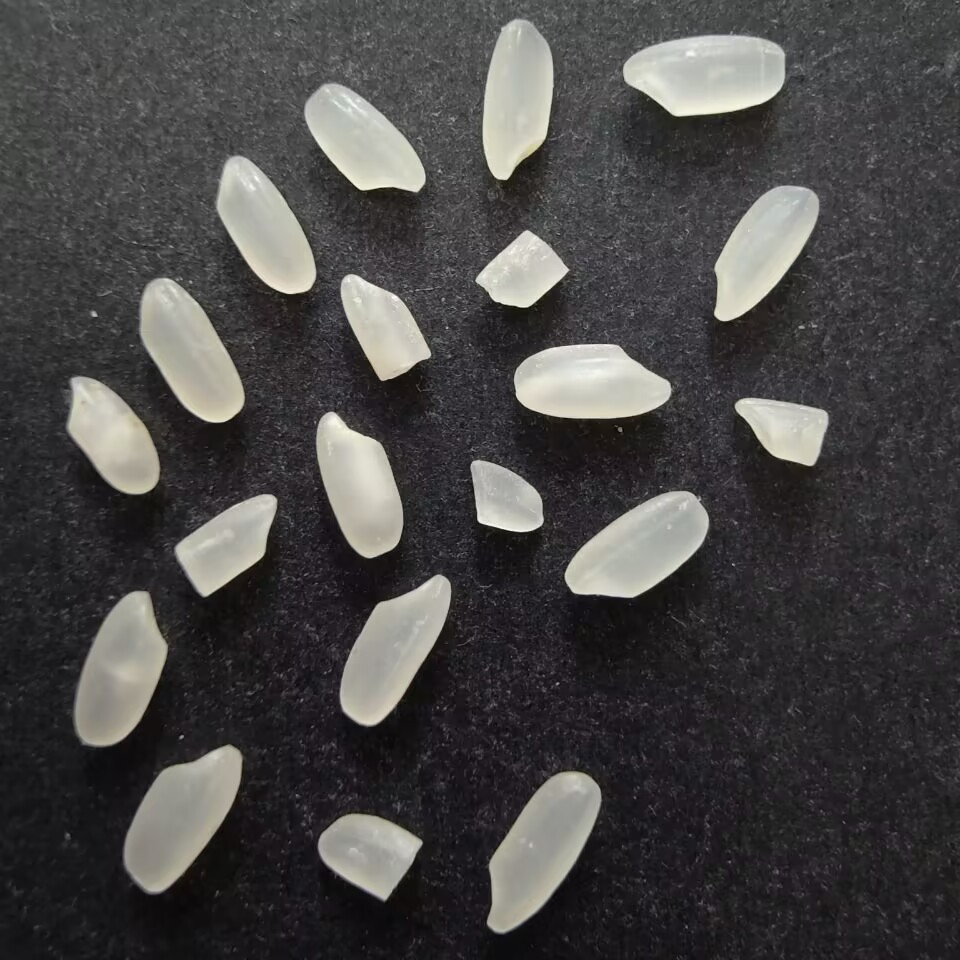broken: (335, 268, 440, 387), (172, 486, 280, 600), (310, 805, 425, 901), (468, 224, 573, 314), (725, 389, 837, 472), (458, 455, 552, 540)
rice: (479, 766, 606, 937), (120, 736, 247, 900), (335, 569, 455, 730), (558, 486, 713, 605), (132, 274, 250, 427), (67, 586, 173, 753), (706, 179, 826, 326), (213, 149, 318, 299), (617, 31, 790, 120), (301, 79, 431, 197), (310, 407, 405, 563), (508, 338, 678, 425), (477, 14, 562, 183), (58, 372, 164, 498)
